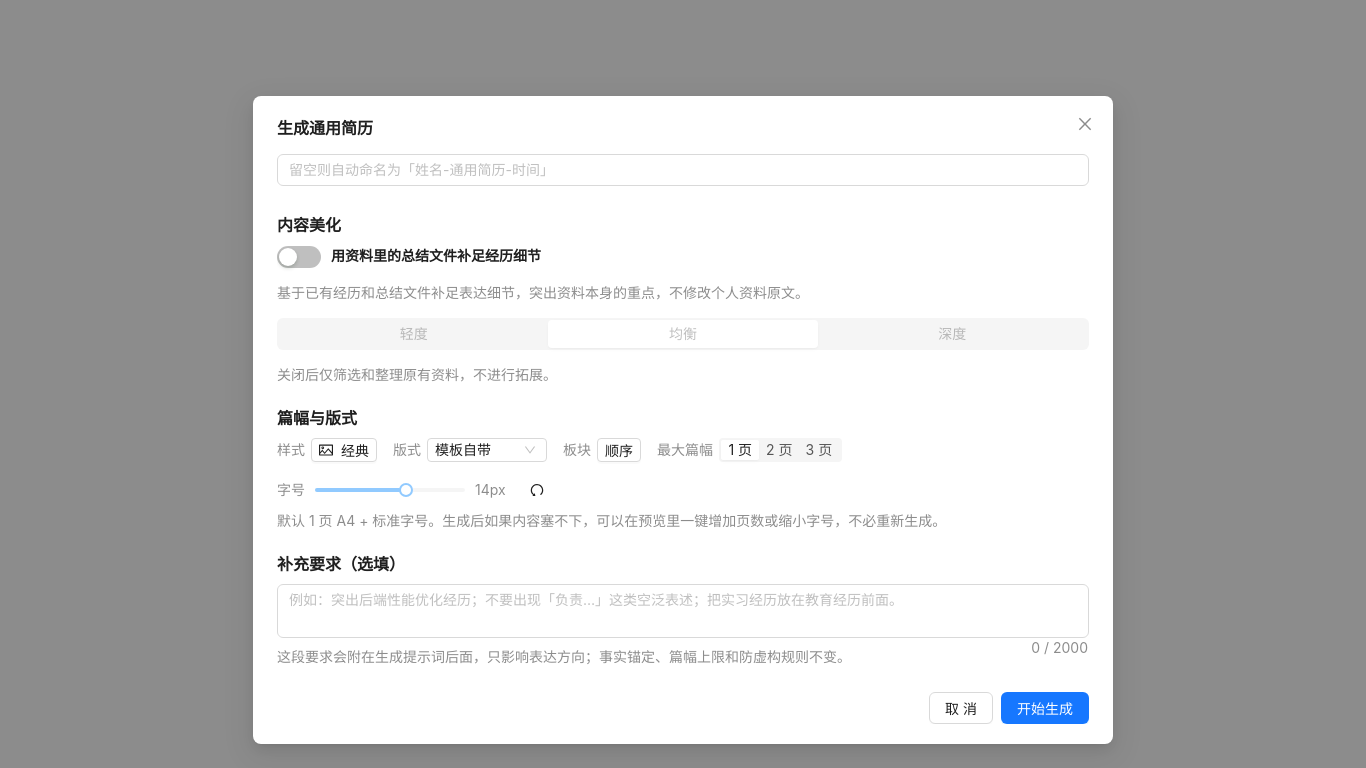
Test: GenerateResumeModal 生成进度条 › shows an unmappable progress message as text without advancing the stage
(page scrolled)
Click the button "开始生成": (1045, 708) 1001,692 -> 1089,724
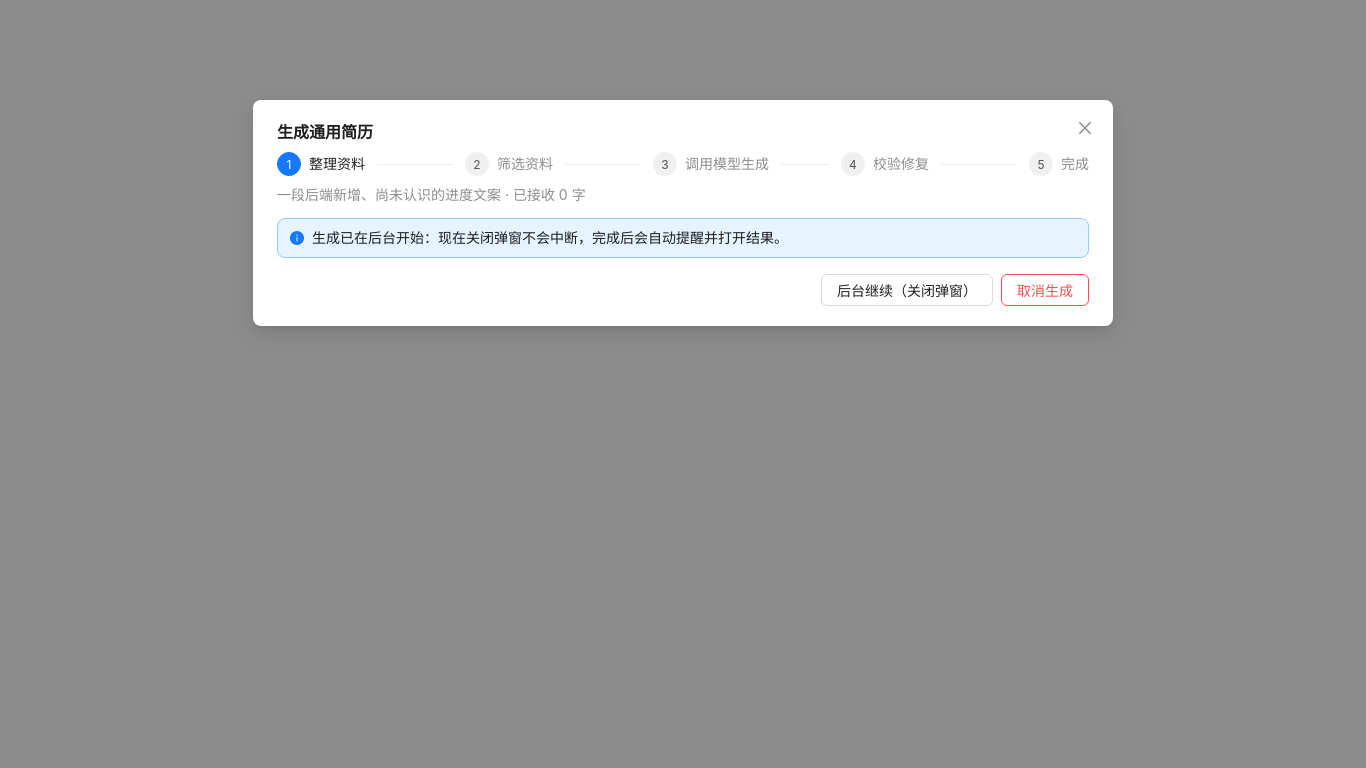
Expected: the text "一段后端新增、尚未认识的进度文案 · 已接收 0 字" is shown, 277,186 -> 586,203
Expected: the text "整理资料" is shown, 309,152 -> 377,176
